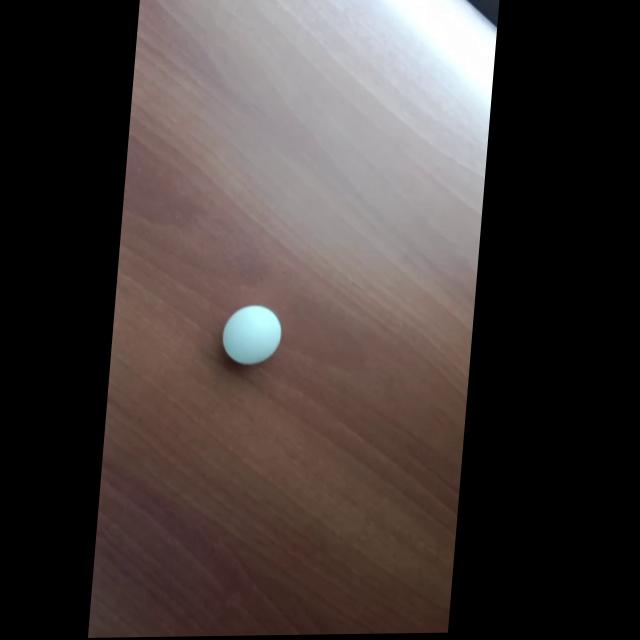white ball: (219, 303, 284, 366)
